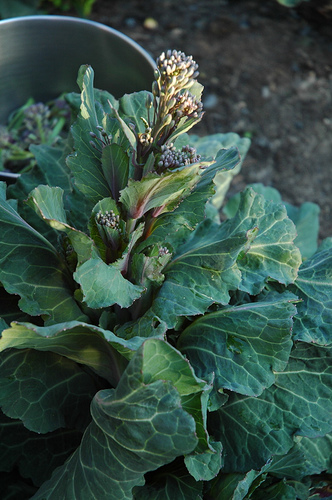cabbage: (2, 52, 330, 498)
